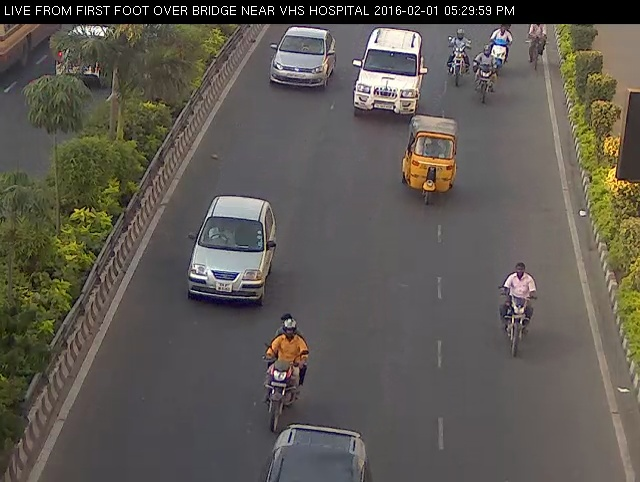Auto: (396, 107, 469, 212)
Car: (185, 186, 278, 309), (251, 418, 386, 482), (348, 24, 428, 126), (265, 20, 340, 96)
Person: (257, 305, 309, 441), (489, 251, 545, 365), (434, 19, 473, 89), (473, 36, 499, 106), (486, 19, 513, 74)
